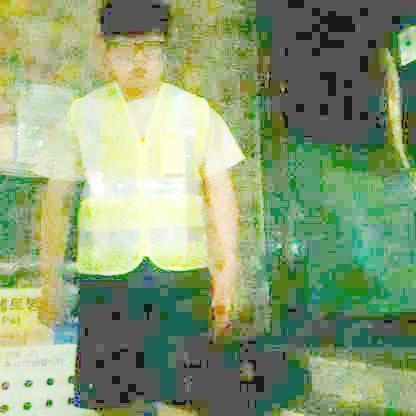no-helmet: (97, 0, 175, 60)
vest: (76, 86, 209, 275)
